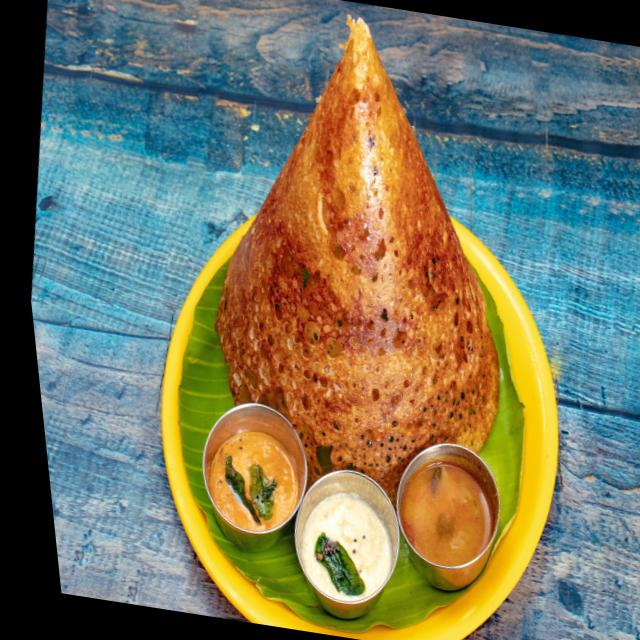DOSA: (209, 23, 499, 508)
RED CHUTNEY: (208, 427, 298, 532)
SAMBAR: (401, 460, 492, 566)
WHITE CHUTNEY: (299, 491, 390, 602)
